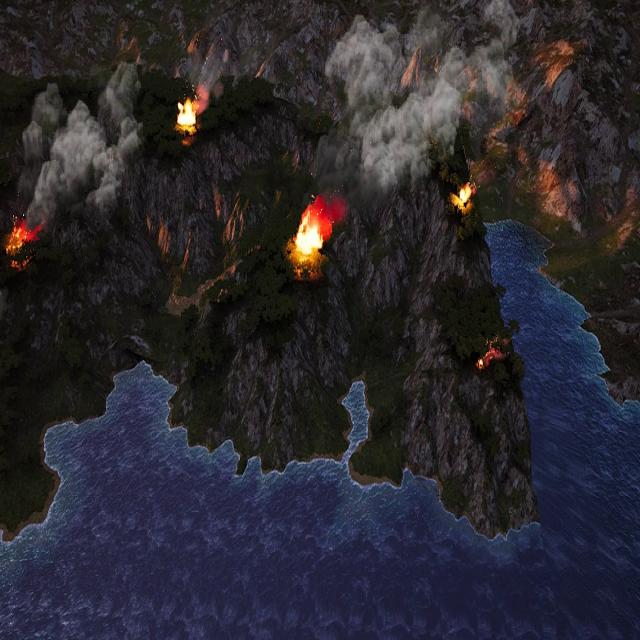fire: (295, 208, 332, 265), (7, 214, 39, 260), (175, 96, 199, 127), (453, 181, 476, 210), (475, 342, 497, 371)
smoke: (314, 2, 514, 206), (22, 58, 142, 232)
